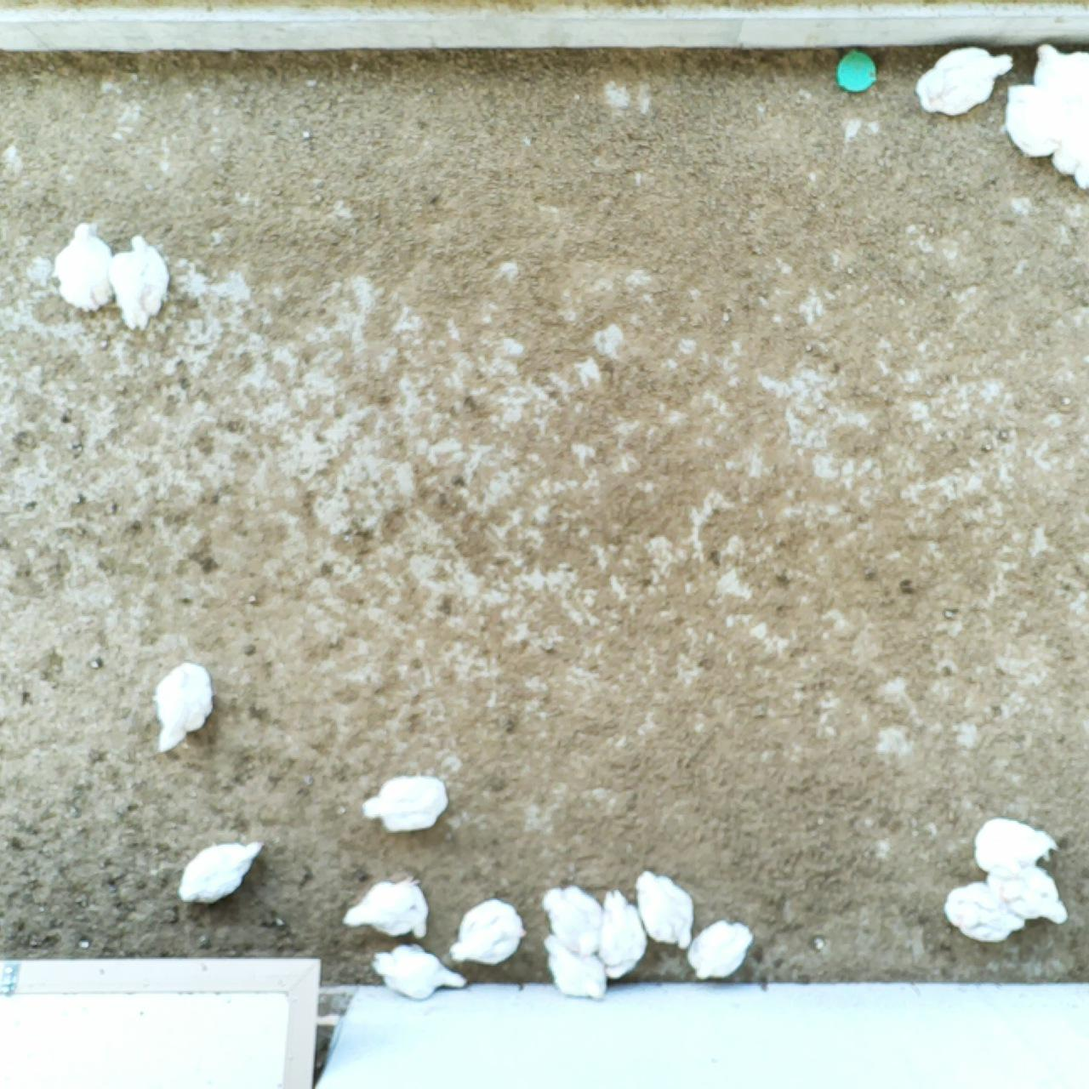chicken: (914, 42, 1017, 122), (105, 231, 174, 335), (341, 872, 436, 944), (368, 939, 470, 1005), (50, 219, 120, 315), (360, 769, 454, 840), (150, 657, 215, 757), (446, 892, 529, 970), (178, 834, 267, 905), (589, 887, 652, 986), (941, 878, 1030, 946), (1003, 80, 1078, 160), (630, 865, 697, 953), (973, 816, 1062, 881), (981, 867, 1072, 929), (536, 930, 610, 1006), (539, 881, 606, 961), (682, 913, 756, 984), (1031, 37, 1089, 110), (1055, 109, 1089, 187)
